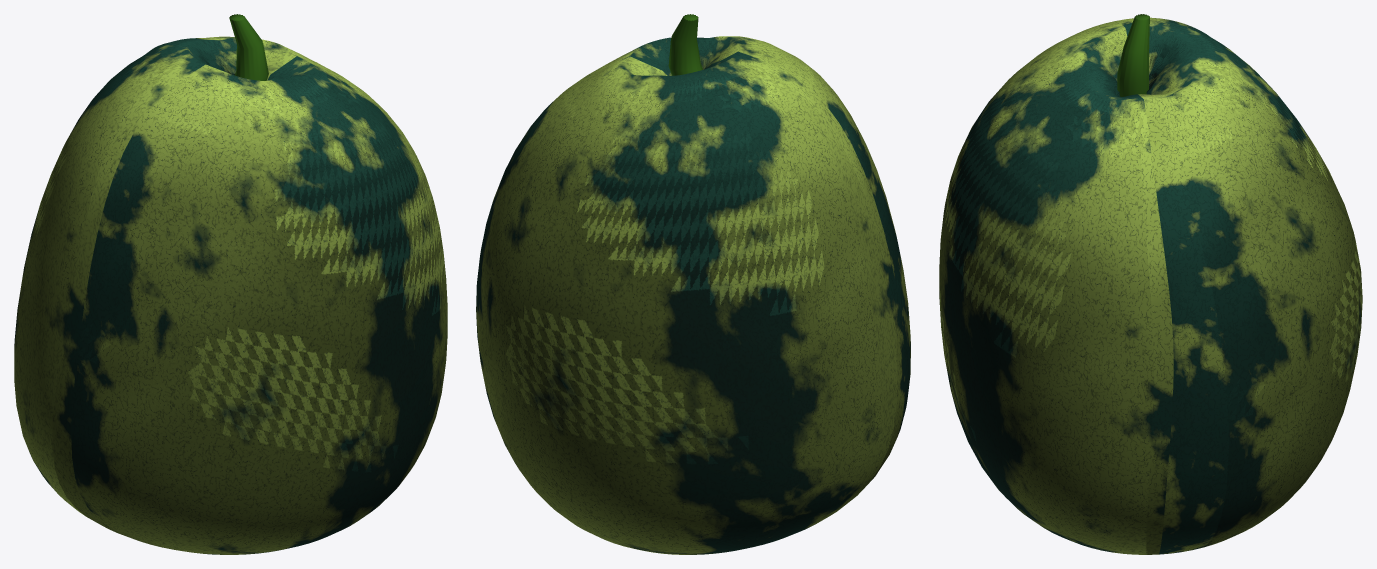
The model's file is Watermelon.obj.
The picture shows the model from 3 angles, left to right: view 1: azimuth 30°, elevation 25°; view 2: azimuth 150°, elevation 25°; view 3: azimuth 270°, elevation 25°; orthographic projection.
Parts seen in each view (by area): view 1: Sphere, Circle; view 2: Sphere, Circle; view 3: Sphere, Circle.
Boxes of the visible parts, bbox=[...] form: Sphere: bbox=[14, 36, 447, 554]; Circle: bbox=[229, 14, 268, 80]; Sphere: bbox=[476, 36, 910, 554]; Circle: bbox=[668, 14, 702, 75]; Sphere: bbox=[939, 17, 1362, 554]; Circle: bbox=[1117, 14, 1149, 96].
Bounding box in the file's own units: 2.04 × 2.59 × 1.95.
